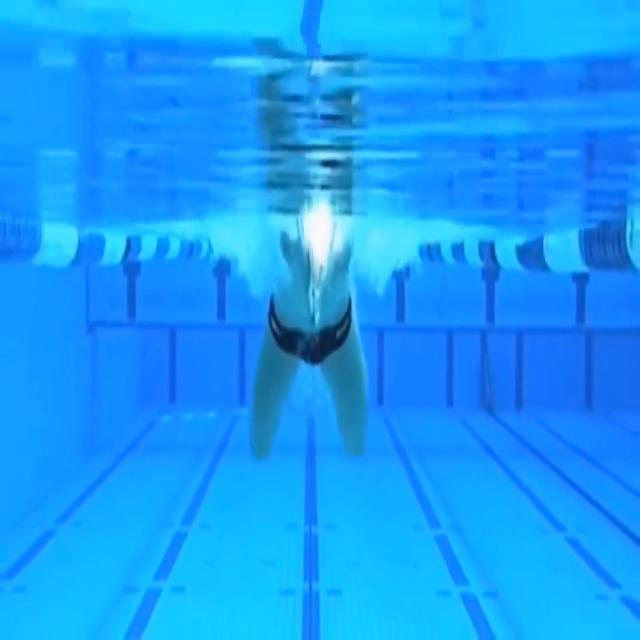Swimming: (248, 208, 372, 462)
